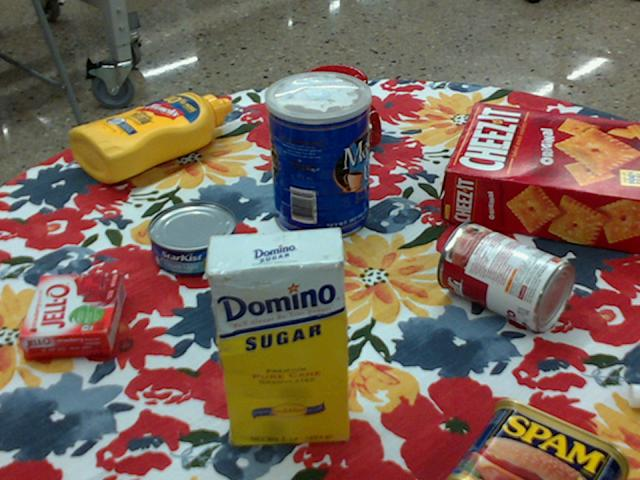cracker_box: (442, 102, 639, 255)
gelatin_box: (20, 275, 126, 363)
large_marker: (630, 382, 639, 405)
master_chef_can: (266, 71, 372, 241)
mug: (296, 65, 380, 158)
mustard_bottle: (67, 92, 231, 182)
potted_meat_can: (448, 397, 633, 479)
sugar_box: (202, 225, 350, 448)
tomato_soup_can: (439, 221, 577, 331)
tuna_fish_can: (146, 202, 236, 277)
